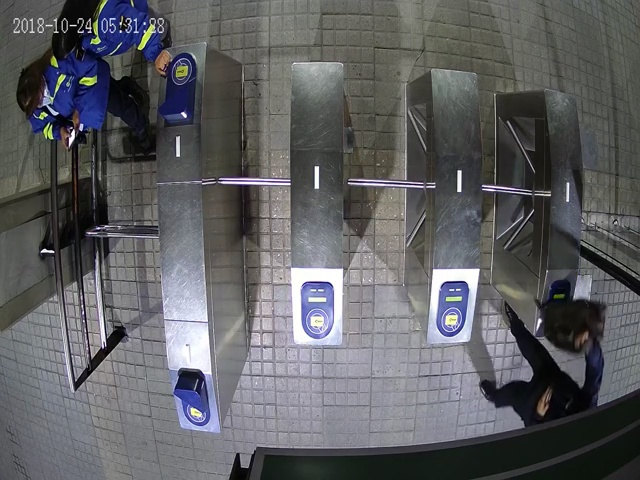Chaleco_azul: (17, 47, 148, 146), (51, 1, 172, 76)
